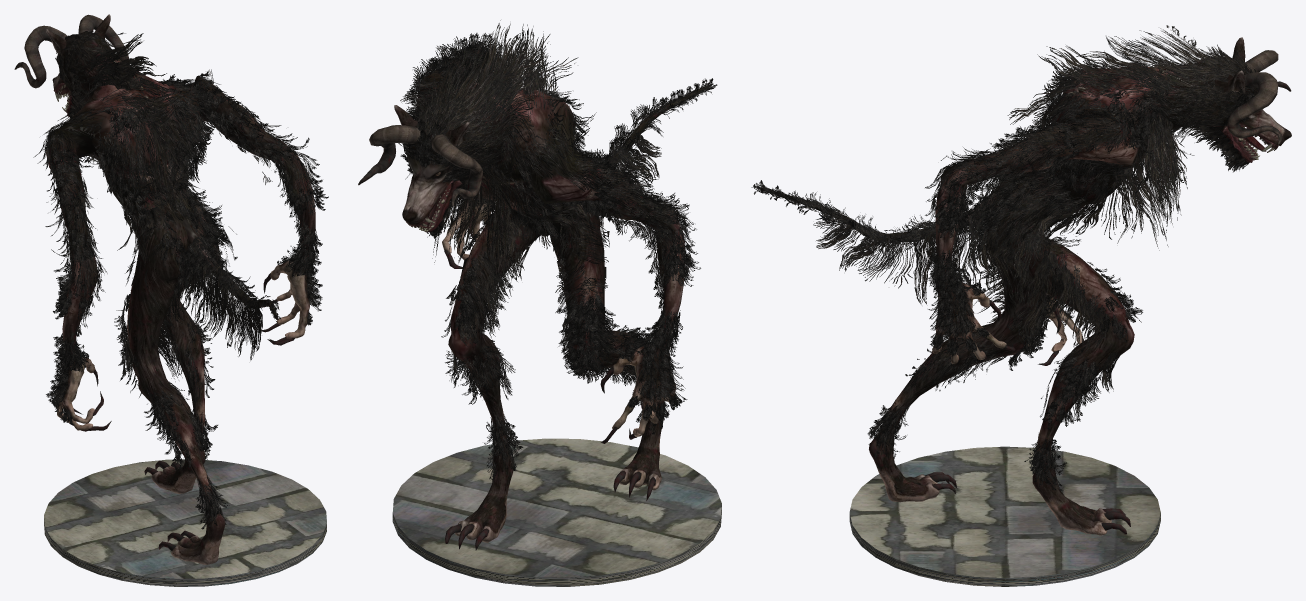
File: beast-possessed-soul.glb
3 renders of one model, left to right at view 1: azimuth 30°, elevation 25°; view 2: azimuth 150°, elevation 25°; view 3: azimuth 270°, elevation 25°, orthographic. The views are drawn at different scales.
Parts seen in each view (by area): view 1: 31-bb_31_1, 31-bb_31_0, 29-Cylinder.obj, 31-bb_31_2; view 2: 31-bb_31_1, 29-Cylinder.obj, 31-bb_31_0, 31-bb_31_2; view 3: 31-bb_31_1, 31-bb_31_0, 29-Cylinder.obj, 31-bb_31_2.
Boxes of the visible parts, <box> form: 31-bb_31_1: <box>33,31,328,529</box>; 31-bb_31_0: <box>46,14,315,564</box>; 29-Cylinder.obj: <box>44,459,326,586</box>; 31-bb_31_2: <box>14,14,294,550</box>; 31-bb_31_1: <box>398,20,717,479</box>; 29-Cylinder.obj: <box>392,438,721,586</box>; 31-bb_31_0: <box>394,48,713,542</box>; 31-bb_31_2: <box>358,125,655,550</box>; 31-bb_31_1: <box>751,25,1258,490</box>; 31-bb_31_0: <box>756,37,1291,535</box>; 29-Cylinder.obj: <box>849,446,1160,586</box>; 31-bb_31_2: <box>925,50,1291,534</box>.
Bounding box in the file's own units: 1.63 × 2.9 × 2.79.
4 materials, 4 textured.
